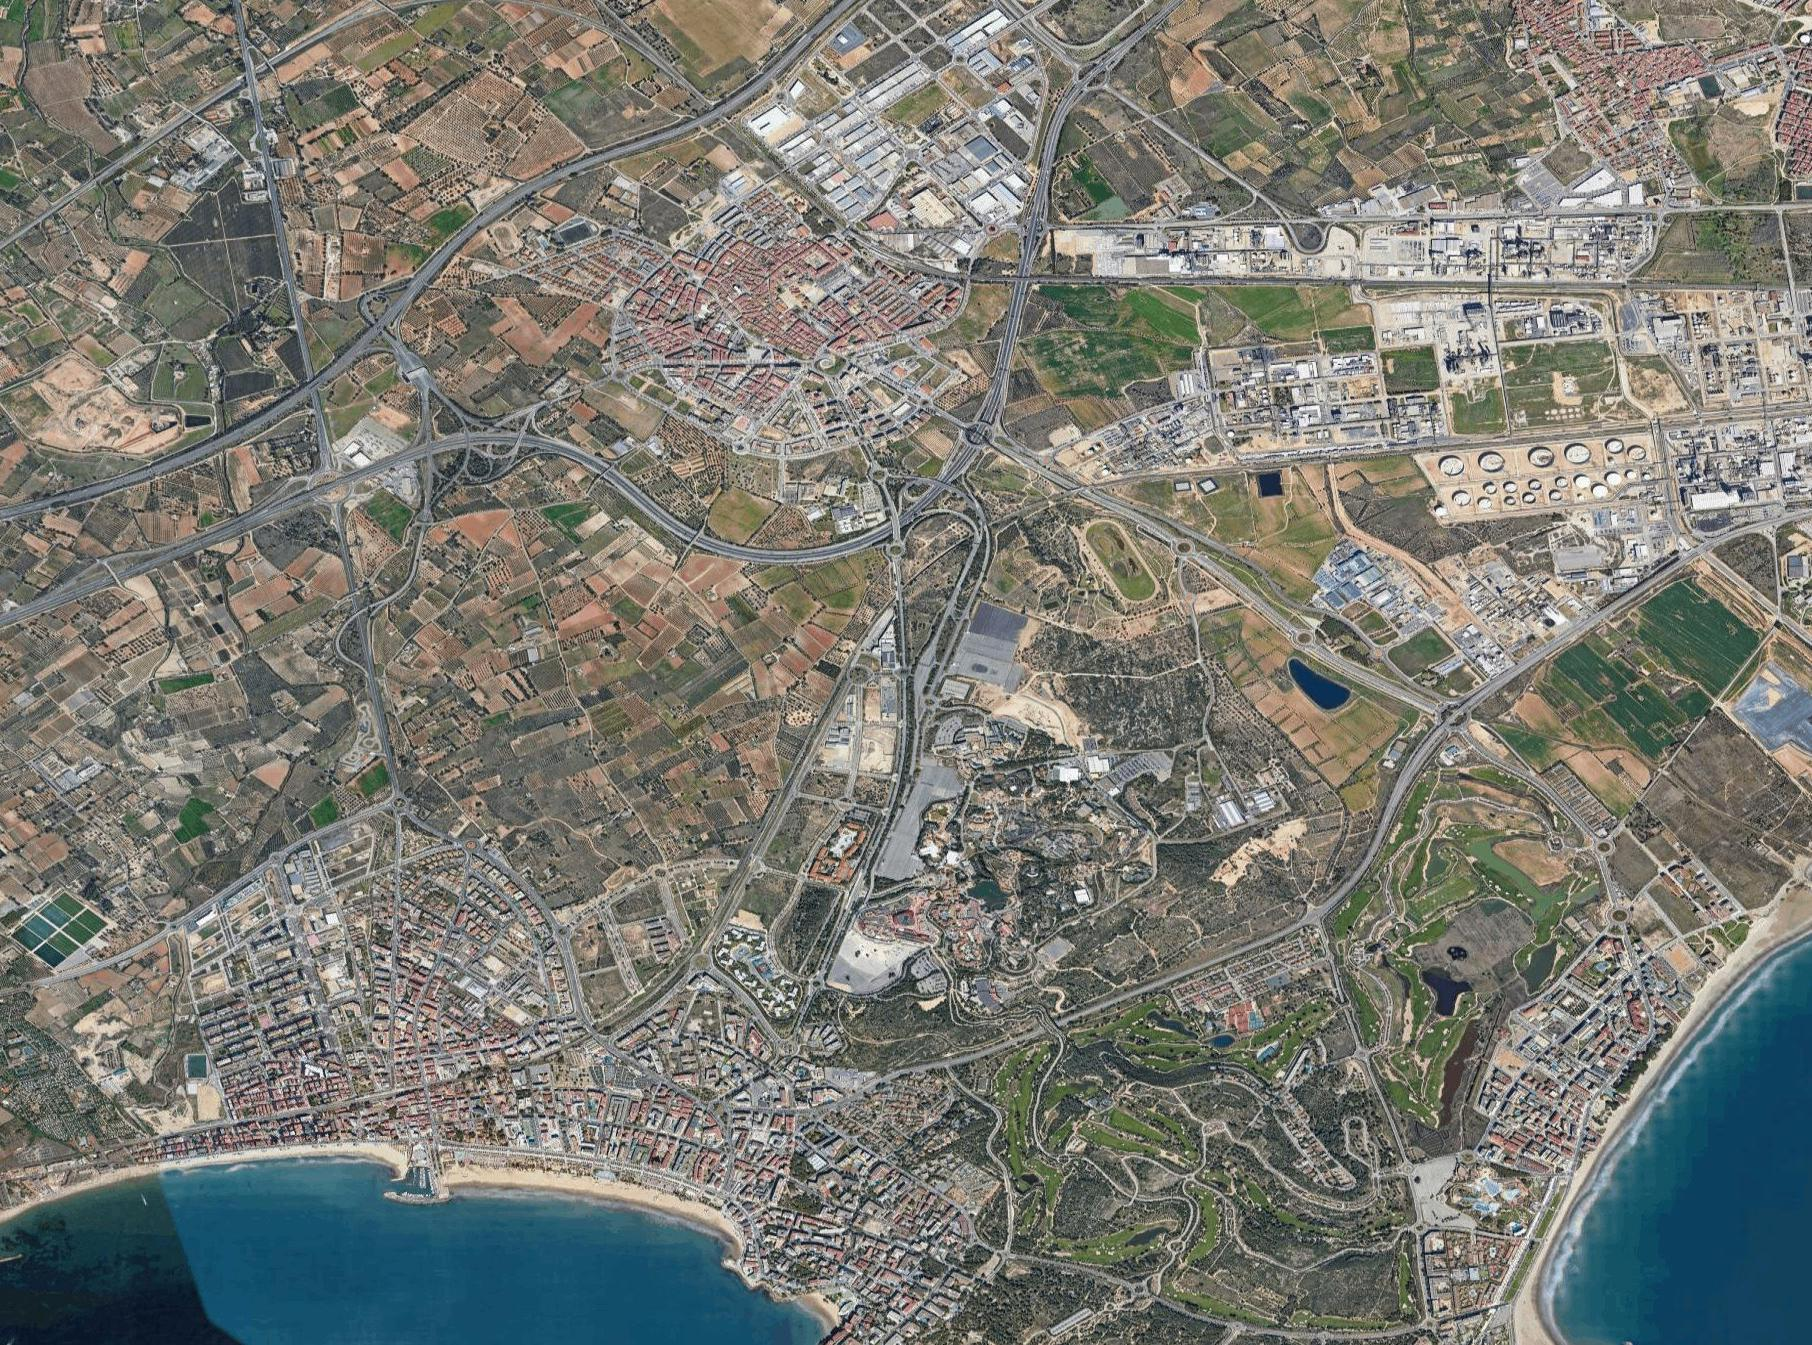industrial: (788, 93, 1025, 232)
motorway: (695, 444, 950, 620), (411, 401, 696, 551), (607, 1, 859, 165), (412, 134, 619, 300), (237, 263, 419, 442), (1054, 463, 1250, 606), (1244, 586, 1441, 729), (1, 513, 240, 630), (983, 54, 1111, 268), (936, 273, 1063, 487), (223, 435, 405, 572), (1323, 718, 1448, 906), (750, 627, 874, 815), (661, 802, 785, 990), (4, 435, 246, 531), (1128, 899, 1325, 997), (934, 986, 1130, 1085), (336, 571, 410, 793)
